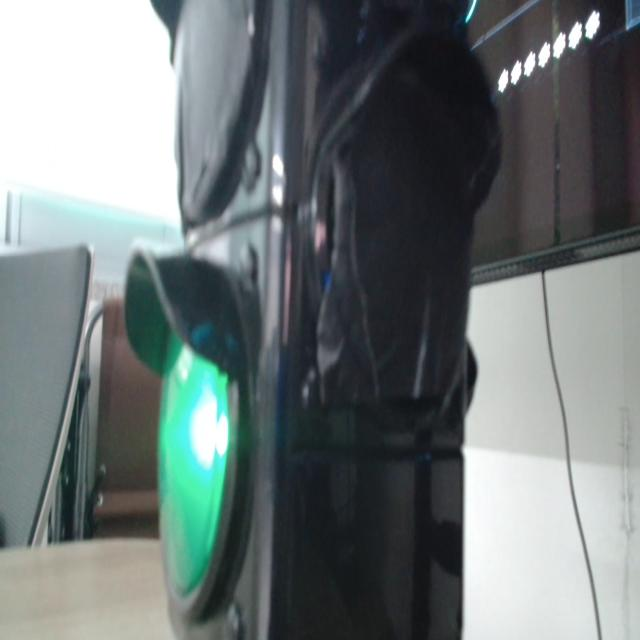green_light: (159, 335, 229, 596)
